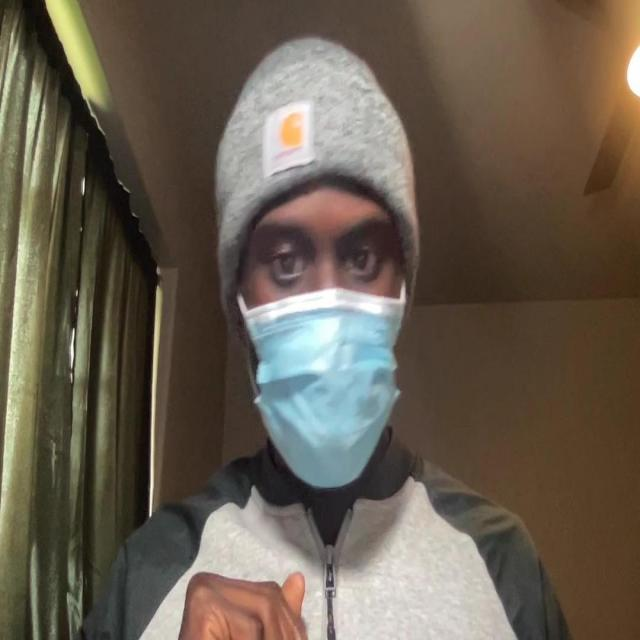face: (230, 145, 415, 491)
